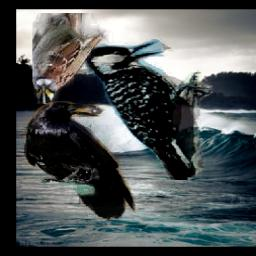Crow: (24, 101, 136, 220)
Sparrow: (32, 13, 125, 104)
Woodpecker: (79, 39, 211, 180)
